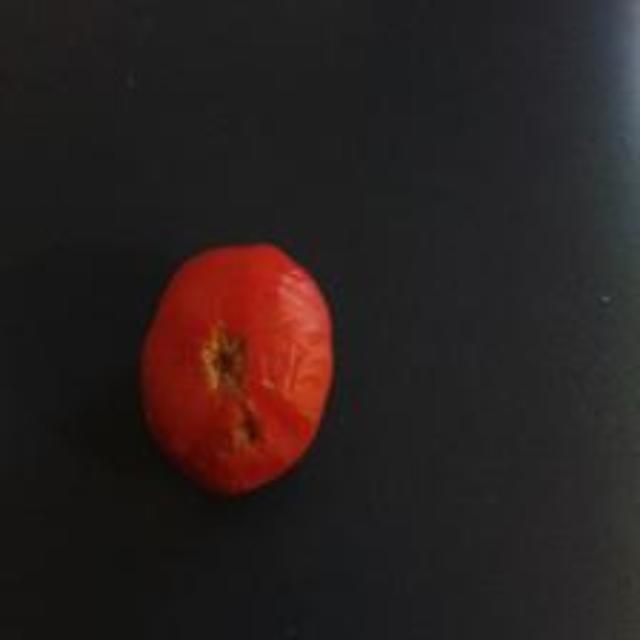defect: (138, 239, 337, 498)
